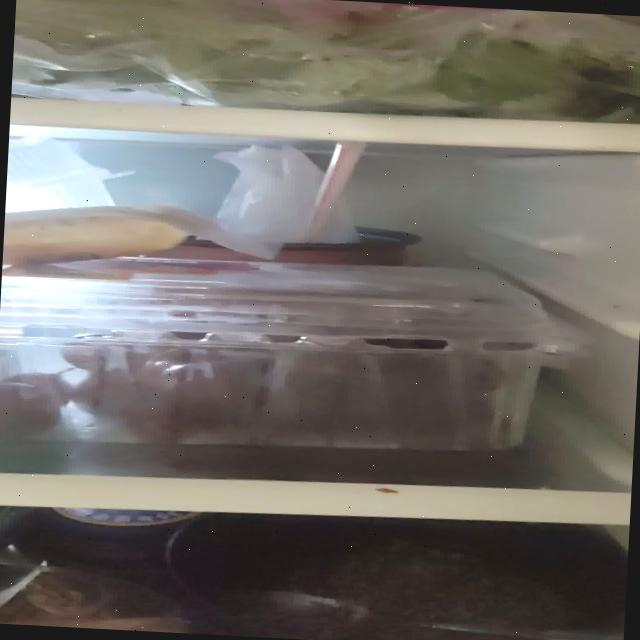grape: (0, 274, 519, 463)
